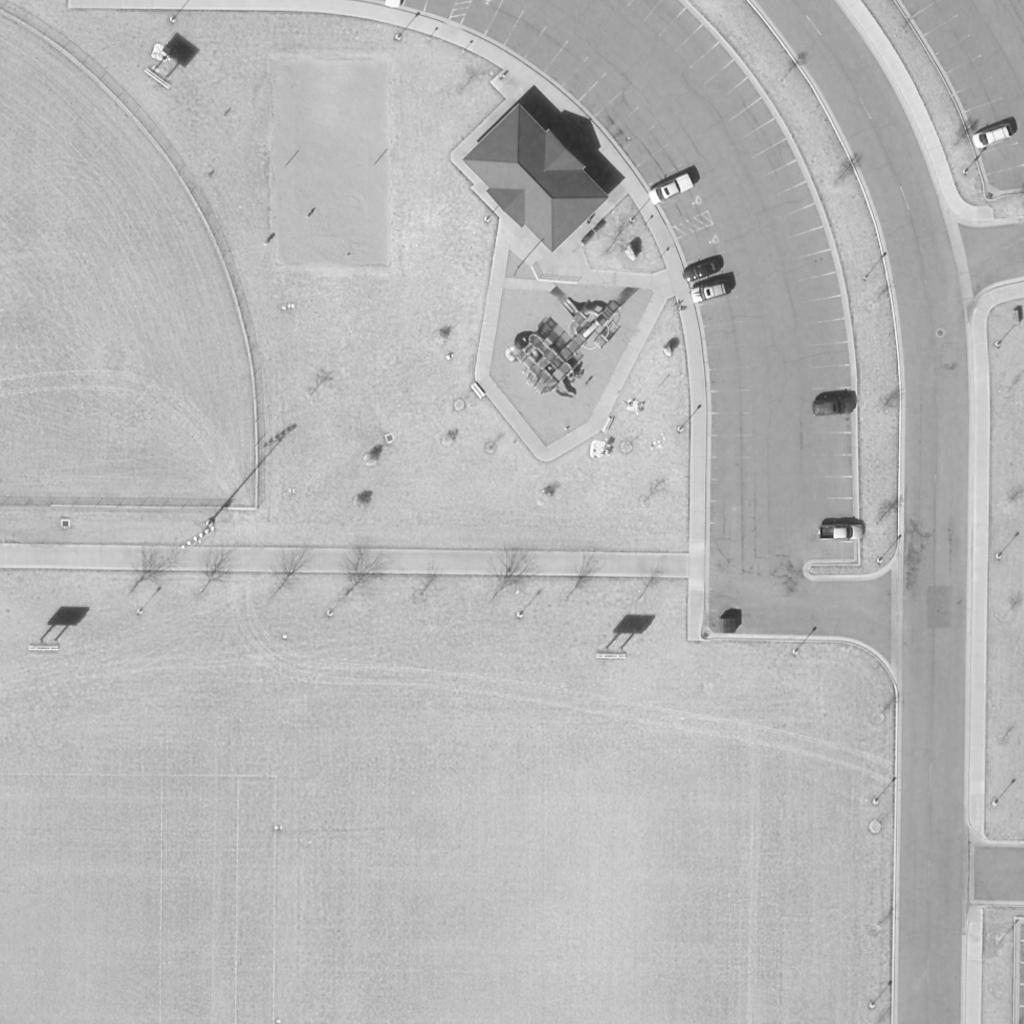vehicle: (647, 173, 695, 205), (970, 122, 1014, 150), (680, 256, 724, 282), (689, 279, 731, 305), (811, 397, 855, 413), (817, 525, 867, 539)
